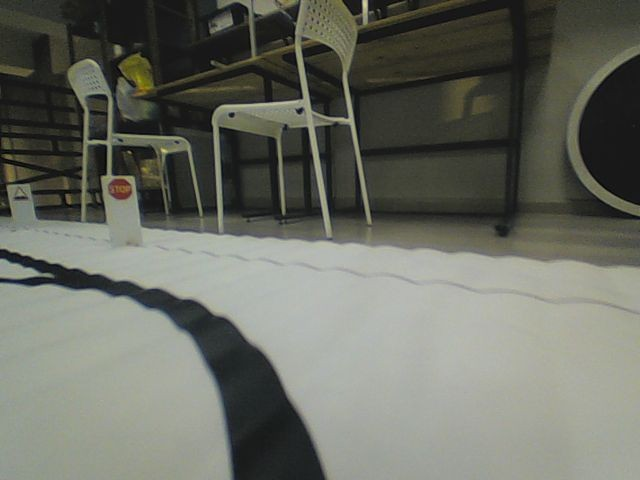Nerov: (12, 186, 30, 202)
Stop: (107, 177, 133, 201)
